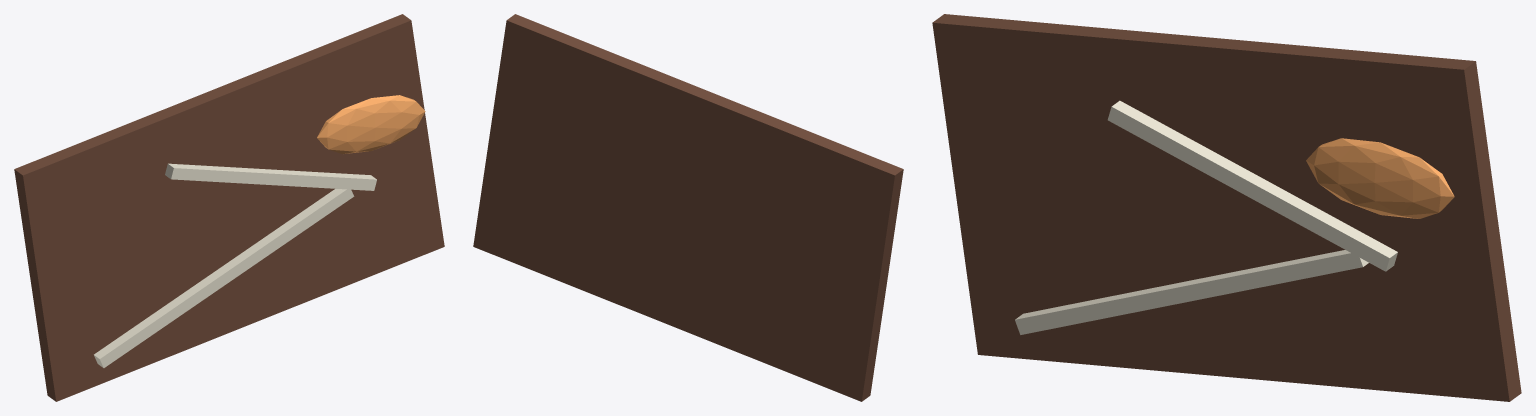
Rendered from 05_weathering_wear_overlay_5.glb.
The picture shows the model from 3 angles, left to right: view 1: azimuth 30°, elevation 25°; view 2: azimuth 150°, elevation 25°; view 3: azimuth 330°, elevation 25°; orthographic projection. The views are drawn at different scales.
Parts seen in each view (by area): view 1: wear_plate, scratch_a, rust_or_moss_spot, scratch_b; view 2: wear_plate; view 3: wear_plate, rust_or_moss_spot, scratch_b, scratch_a.
Boxes of the visible parts, box(x1,y1,x2,y2) form: wear_plate: box(14, 14, 444, 401); scratch_a: box(94, 188, 354, 367); rust_or_moss_spot: box(317, 95, 425, 154); scratch_b: box(165, 163, 376, 190); wear_plate: box(473, 14, 903, 401); wear_plate: box(932, 14, 1521, 401); rust_or_moss_spot: box(1306, 138, 1454, 218); scratch_b: box(1107, 100, 1397, 271); scratch_a: box(1015, 250, 1368, 334).
Bounding box in the file's own units: 1.4 × 0.9329 × 0.134.
